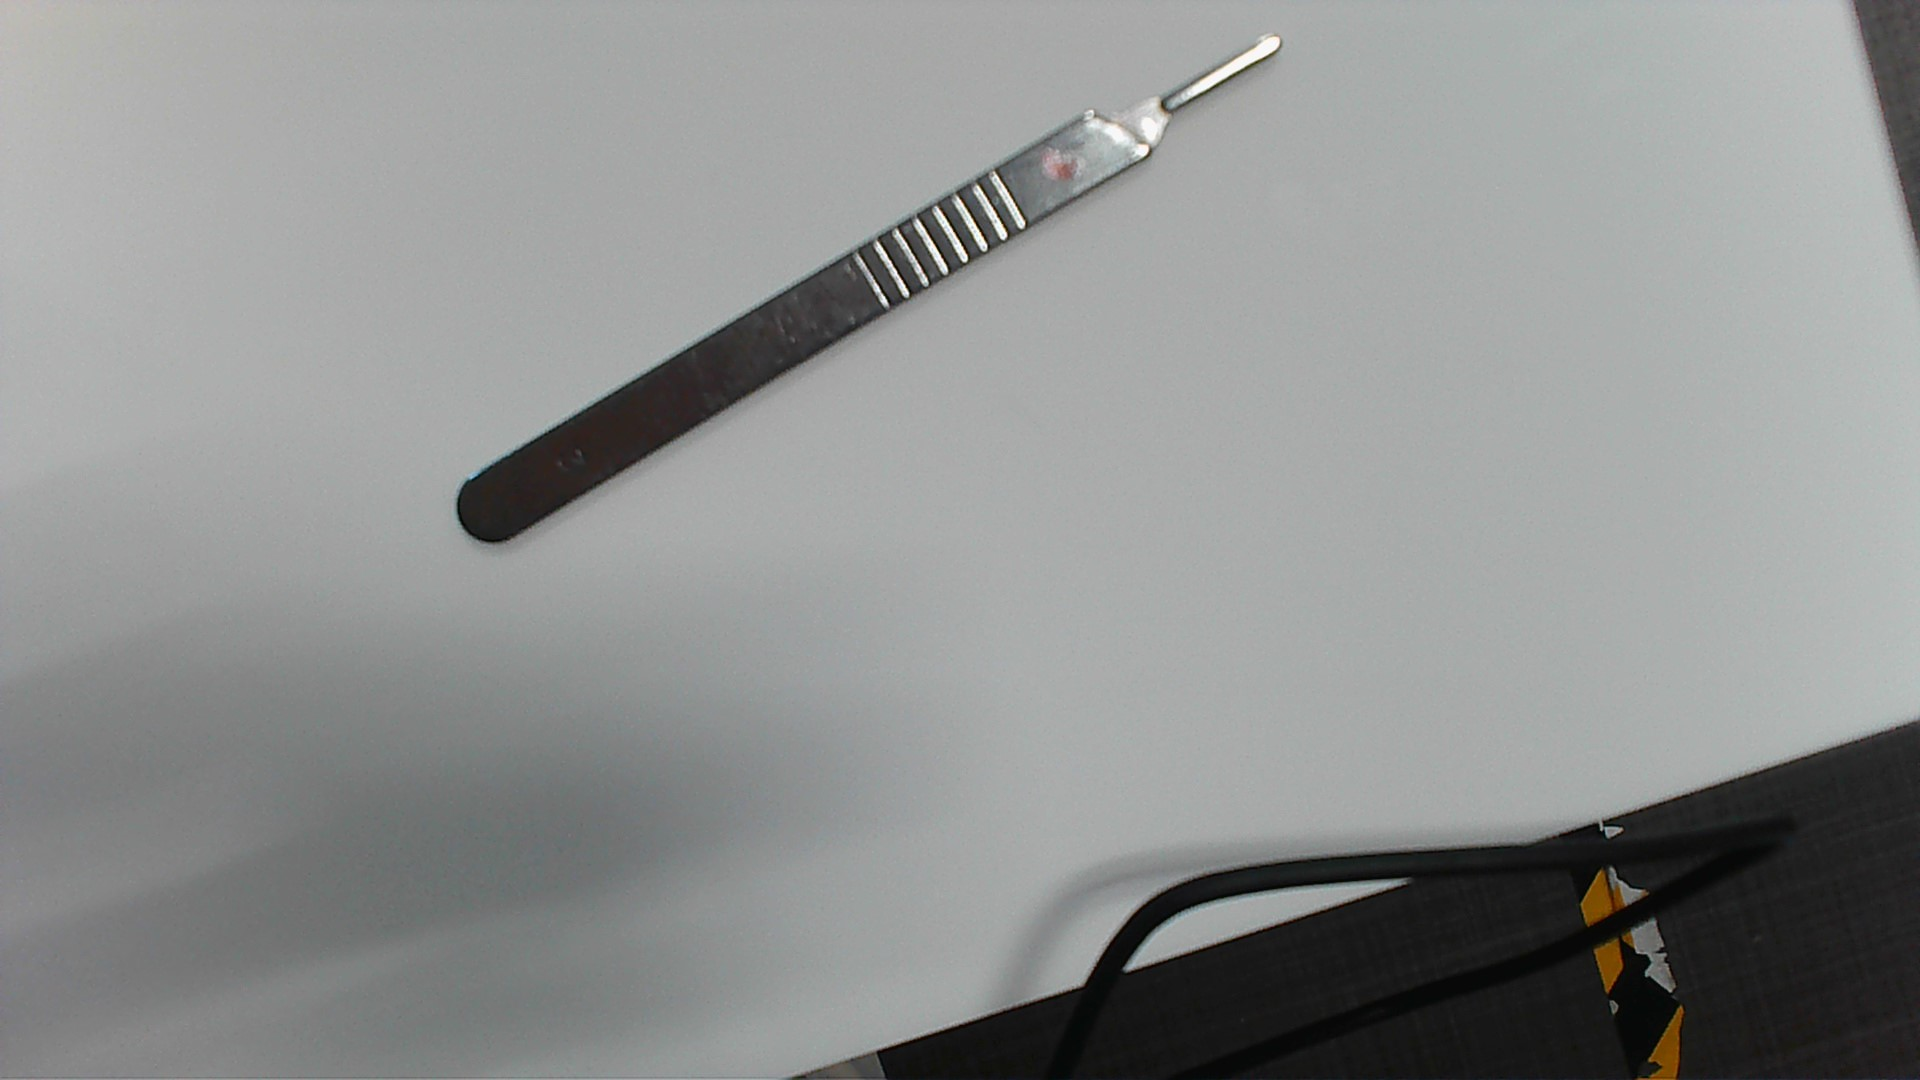Stain: (1040, 148, 1089, 177)
